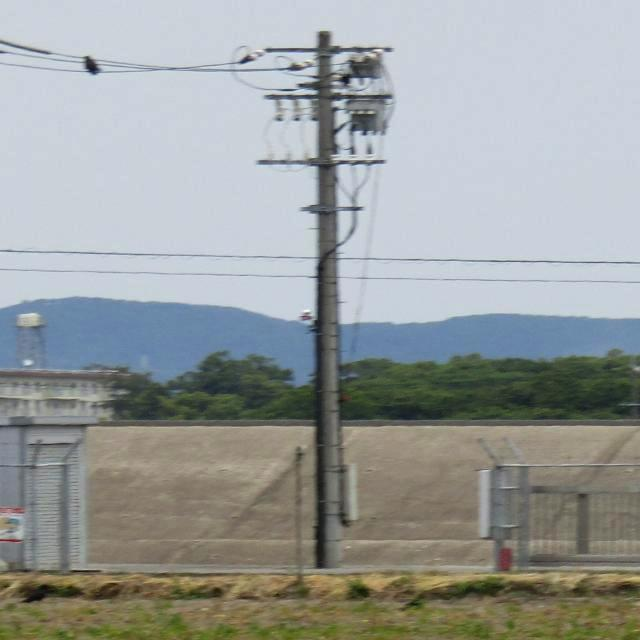crossarm: (263, 43, 398, 57), (267, 91, 396, 102), (257, 159, 389, 167)
pole: (311, 31, 349, 573)
wire: (0, 38, 298, 73), (1, 268, 640, 284), (1, 249, 639, 265), (0, 60, 249, 76)
